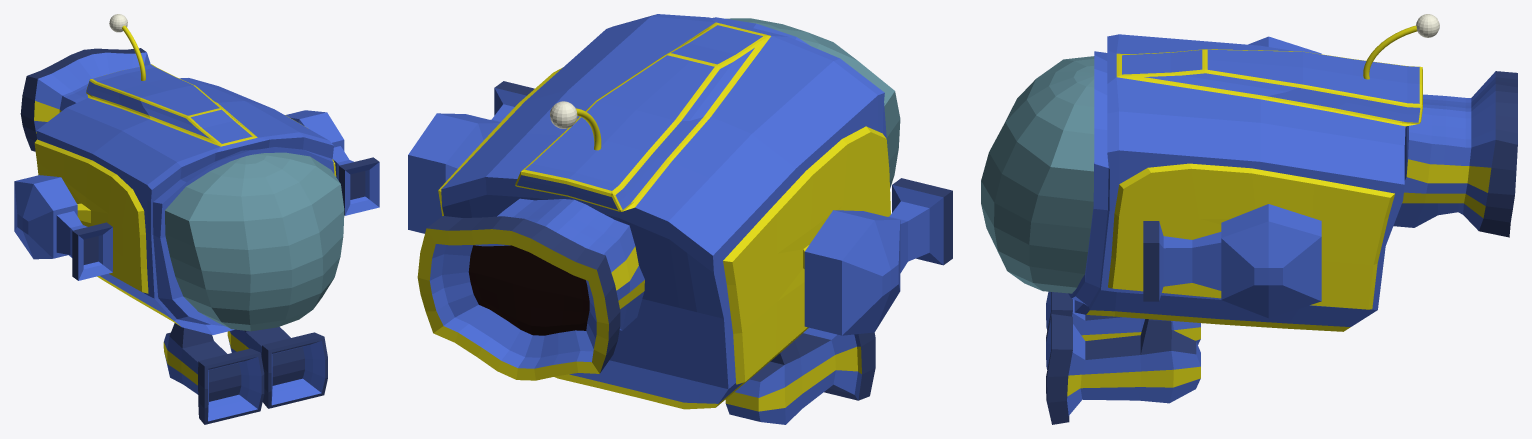
File: nave 01_v06_unity.fbx
3 views of the same model, side by side, from view 1: azimuth 30°, elevation 25°; view 2: azimuth 150°, elevation 25°; view 3: azimuth 270°, elevation 25° (orthographic). The views are drawn at different scales.
Visible parts, largest first — view 1: base nave, Esfera UV, Plano, Cubo.001, Cubo, fogete; view 2: base nave, Plano, fogete, Cubo.001, Esfera UV; view 3: base nave, Plano, Esfera UV, fogete, Cubo, Cubo.001, Bézier - Curva.
Boxes of the visible parts, x1,y1,x2,y2 form: base nave: (36, 14, 334, 334); Esfera UV: (165, 152, 344, 331); Plano: (14, 110, 379, 293); Cubo.001: (163, 323, 264, 424); Cubo: (227, 327, 327, 408); fogete: (20, 48, 150, 151); base nave: (441, 14, 886, 409); Plano: (408, 67, 952, 384); fogete: (417, 198, 644, 380); Cubo.001: (725, 327, 875, 424); Esfera UV: (726, 18, 900, 188); base nave: (1068, 14, 1439, 331); Plano: (1108, 36, 1394, 318); Esfera UV: (981, 56, 1094, 293); fogete: (1393, 71, 1517, 237); Cubo: (1046, 314, 1200, 424); Cubo.001: (1046, 291, 1200, 344); Bézier - Curva: (1363, 25, 1417, 79).
Bounding box in the file's own units: 604 × 529 × 690.
